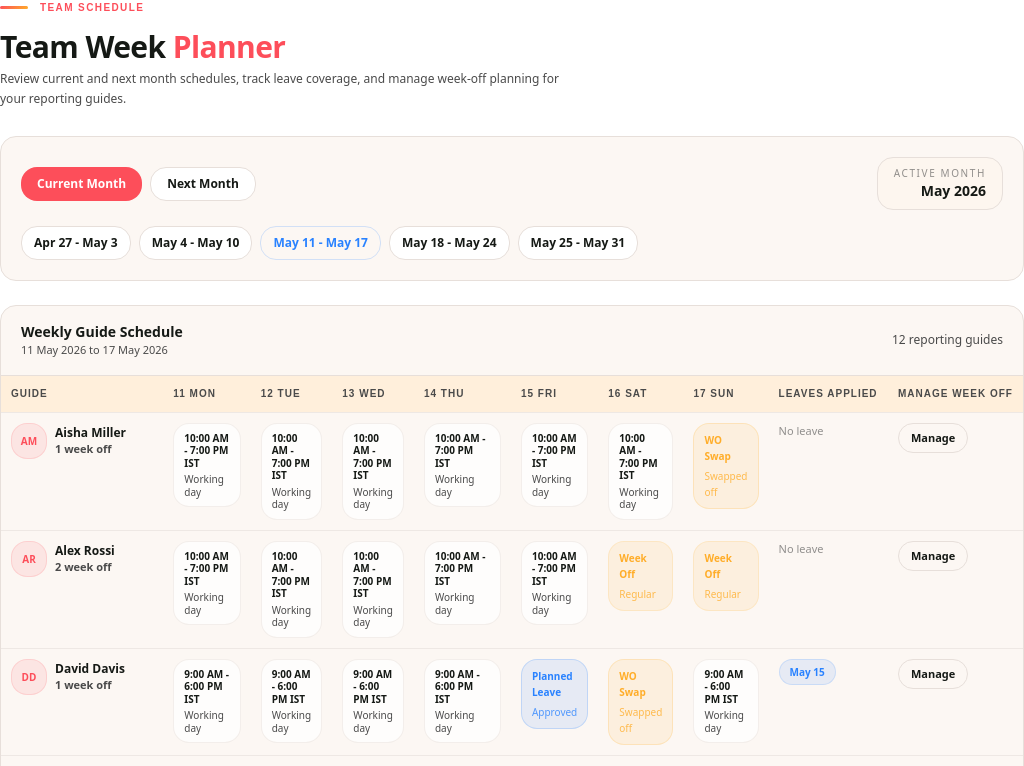
Test: WeeklyScheduleWorkspace manage flow › opens the week-off planning modal when manage is clicked
Click the 1st button "Manage" at (933, 438), box 898,422 -> 968,452
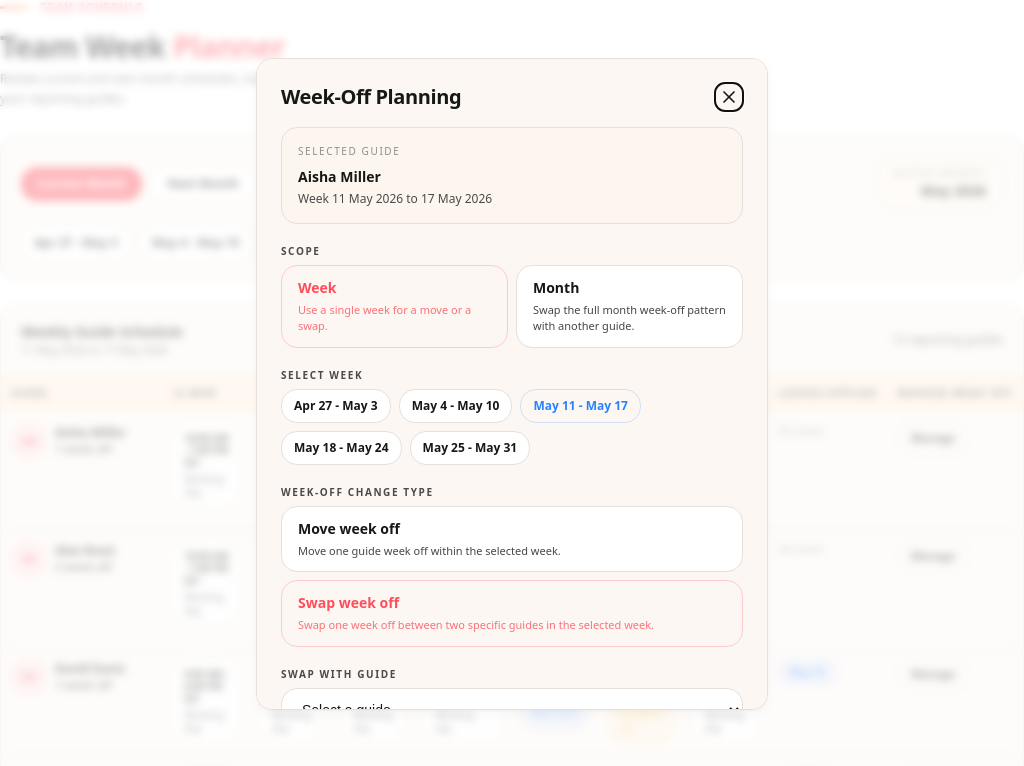
expect the dialog "Week-Off Planning" is shown: met, box 256,58 -> 768,710
expect the text "Selected Guide" is shown: met, box 298,144 -> 400,158
